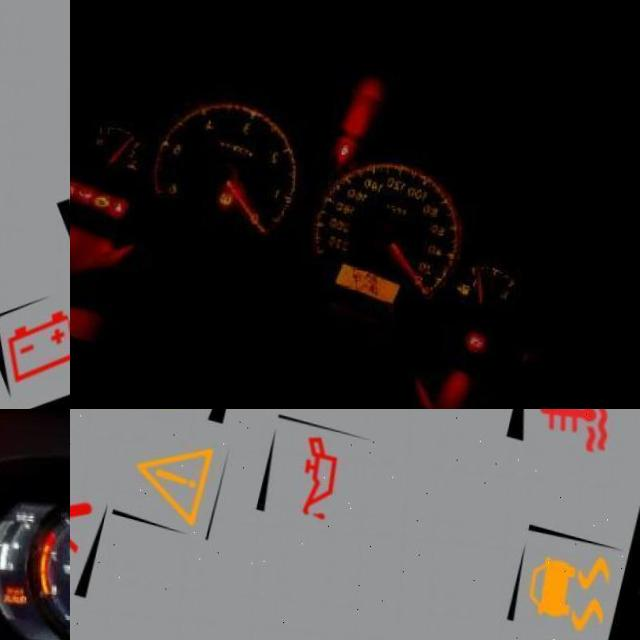High Engine Coolant Temperature: (129, 144, 147, 165)
Seat Belt: (116, 190, 130, 205)
